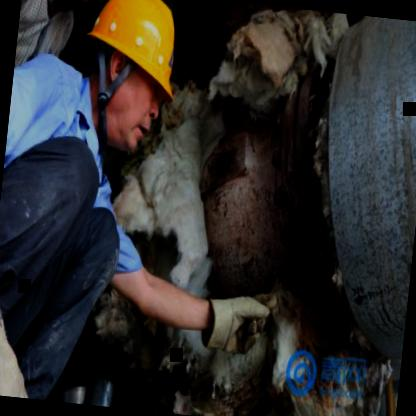helmet: (66, 0, 195, 172)
